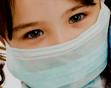with_mask: (2, 1, 111, 88)
